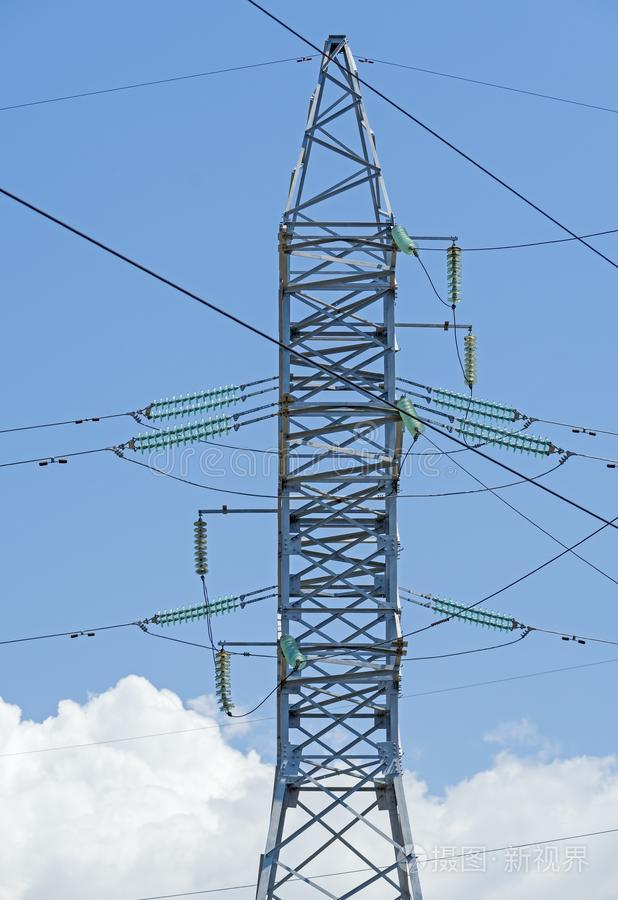insulator: (456, 417, 559, 457), (137, 410, 232, 453), (430, 593, 519, 636), (149, 380, 239, 421), (431, 387, 523, 424), (150, 593, 239, 628), (213, 650, 237, 718), (441, 239, 463, 307), (457, 332, 480, 384), (191, 517, 211, 575), (398, 396, 422, 438), (392, 227, 418, 253)
